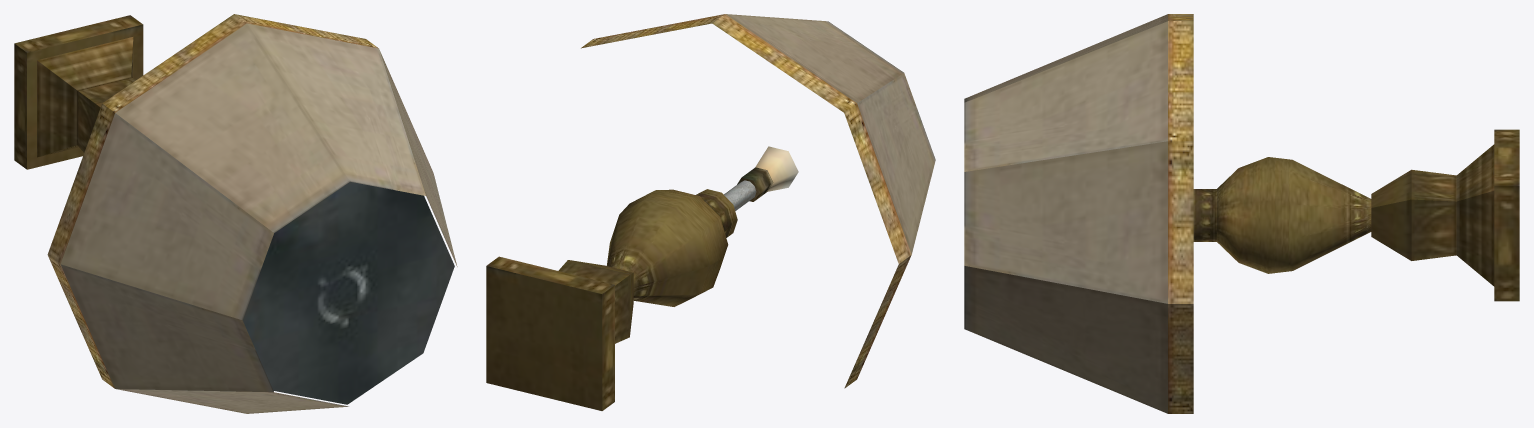
File: light_lampornate_on.glb
3 renders of one model, left to right at view 1: azimuth 30°, elevation 25°; view 2: azimuth 150°, elevation 25°; view 3: azimuth 270°, elevation 25°, orthographic.
Size of the model in its own units: 19.85 by 19.85 by 25.89.
Materials: 2 (2 with a texture image).
